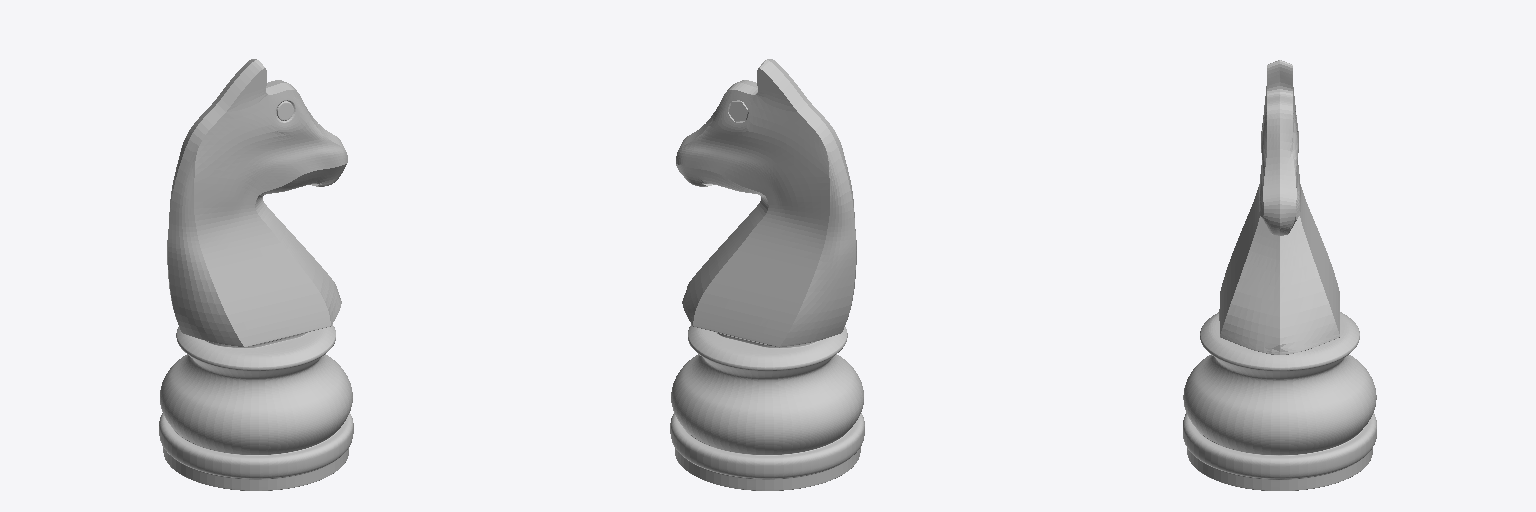
File: knight.obj
3 views of the same model, side by side, from view 1: azimuth 30°, elevation 25°; view 2: azimuth 150°, elevation 25°; view 3: azimuth 270°, elevation 25° (orthographic).
Bounding box in the file's own units: 3.95 × 8.37 × 3.77.